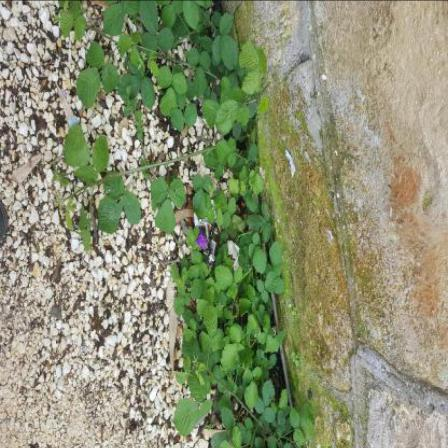Plastic bag - wrapper: (196, 200, 222, 270), (228, 241, 242, 271), (69, 117, 81, 127), (236, 297, 241, 309)
Unlabeled litter: (286, 150, 296, 178)
